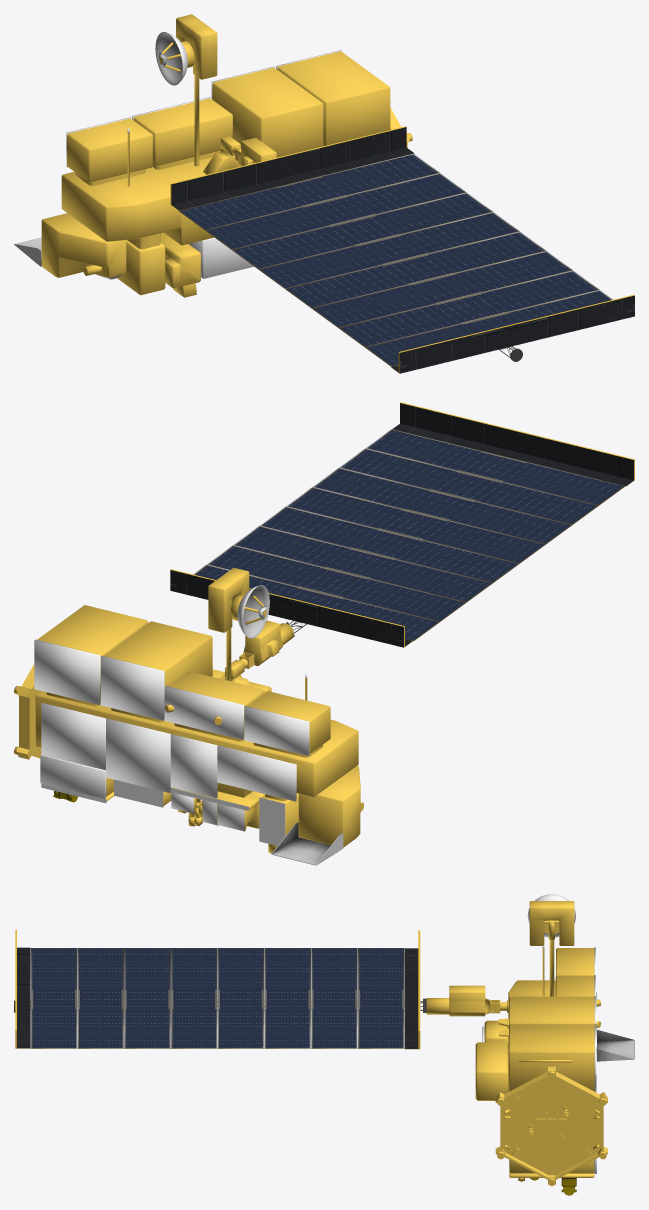
Rendered from terra.glb.
The picture shows the model from 3 angles, top to bottom: view 1: azimuth 30°, elevation 25°; view 2: azimuth 150°, elevation 25°; view 3: azimuth 270°, elevation 25°; orthographic projection. The views are drawn at different scales.
Visible parts, largest first — view 1: solar_1, bus_1, antenna_2, antenna_1, solar_2; view 2: solar_1, bus_1, antenna_2, antenna_1; view 3: solar_1, bus_1, antenna_2.
Part boxes in pixels (<box>): solar_1: <box>170,126,634,373</box>; bus_1: <box>14,50,412,297</box>; antenna_2: <box>176,14,217,166</box>; antenna_1: <box>155,32,194,85</box>; solar_2: <box>203,136,240,174</box>; solar_1: <box>170,402,634,668</box>; bus_1: <box>14,605,363,865</box>; antenna_2: <box>208,567,249,681</box>; antenna_1: <box>230,585,269,638</box>; solar_1: <box>14,929,506,1049</box>; bus_1: <box>475,946,634,1195</box>; antenna_2: <box>529,901,574,996</box>.
Bounding box in the file's own units: 6.86 × 5.18 × 13.13.
Materials: 9 (4 with a texture image).
